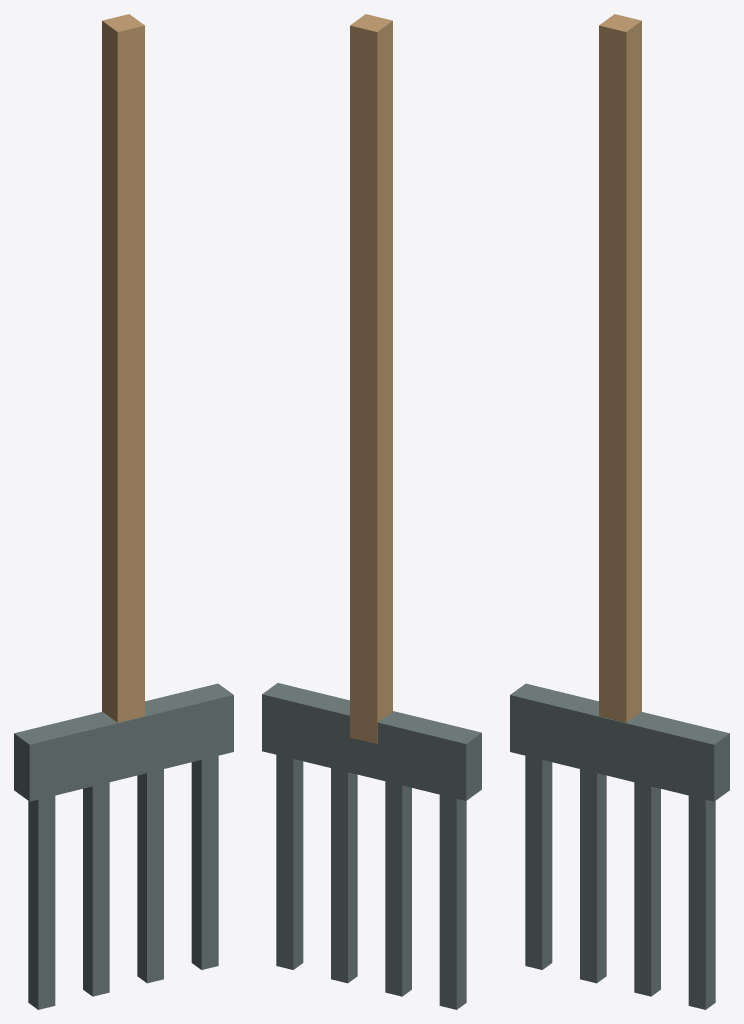
Rendered from cozy-farm-and-homestead-garden-fork-2e6b5203__19397.glb.
3 renders of one model, left to right at view 1: azimuth 30°, elevation 25°; view 2: azimuth 150°, elevation 25°; view 3: azimuth 330°, elevation 25°, orthographic.
Visible parts, largest first — view 1: garden-fork; view 2: garden-fork; view 3: garden-fork.
Boxes of the visible parts, x1,y1,x2,y2 form: garden-fork: (14,14,233,1009); garden-fork: (262,14,481,1009); garden-fork: (510,14,729,1009).
Size of the model in its own units: 0.3 by 1.35 by 0.0412.
